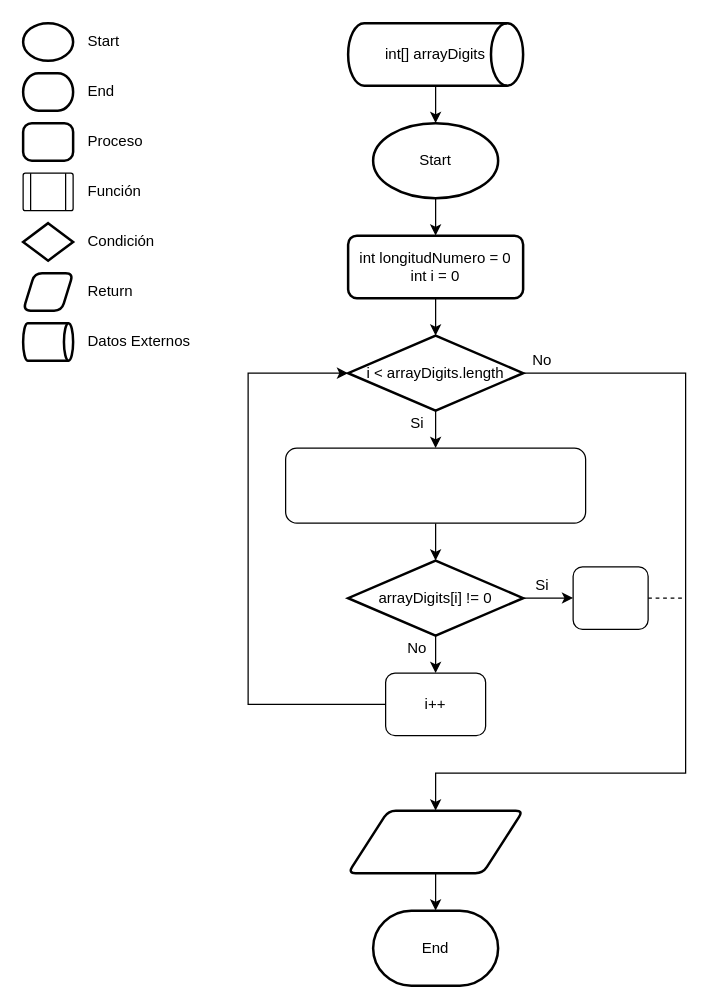
Some shapes in this 718 by 1008 pixel diagram are drawn without their labels. Each missing label, with the centre of its shape:
"break" belongs at (610,597).
"longitudNumero" belongs at (435,841).
"longitudNumero = arrayDigits.length - i" belongs at (435,485).
